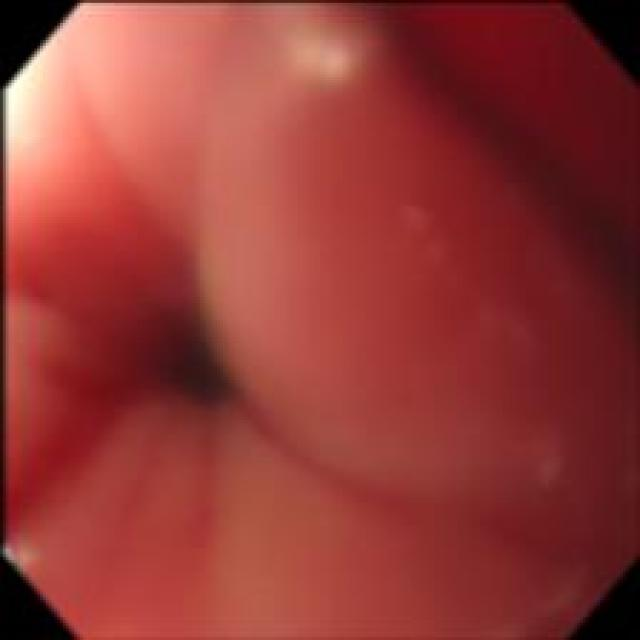blur: (1, 4, 636, 636)
contrast: (159, 310, 238, 414)
saturation: (2, 5, 109, 155)
